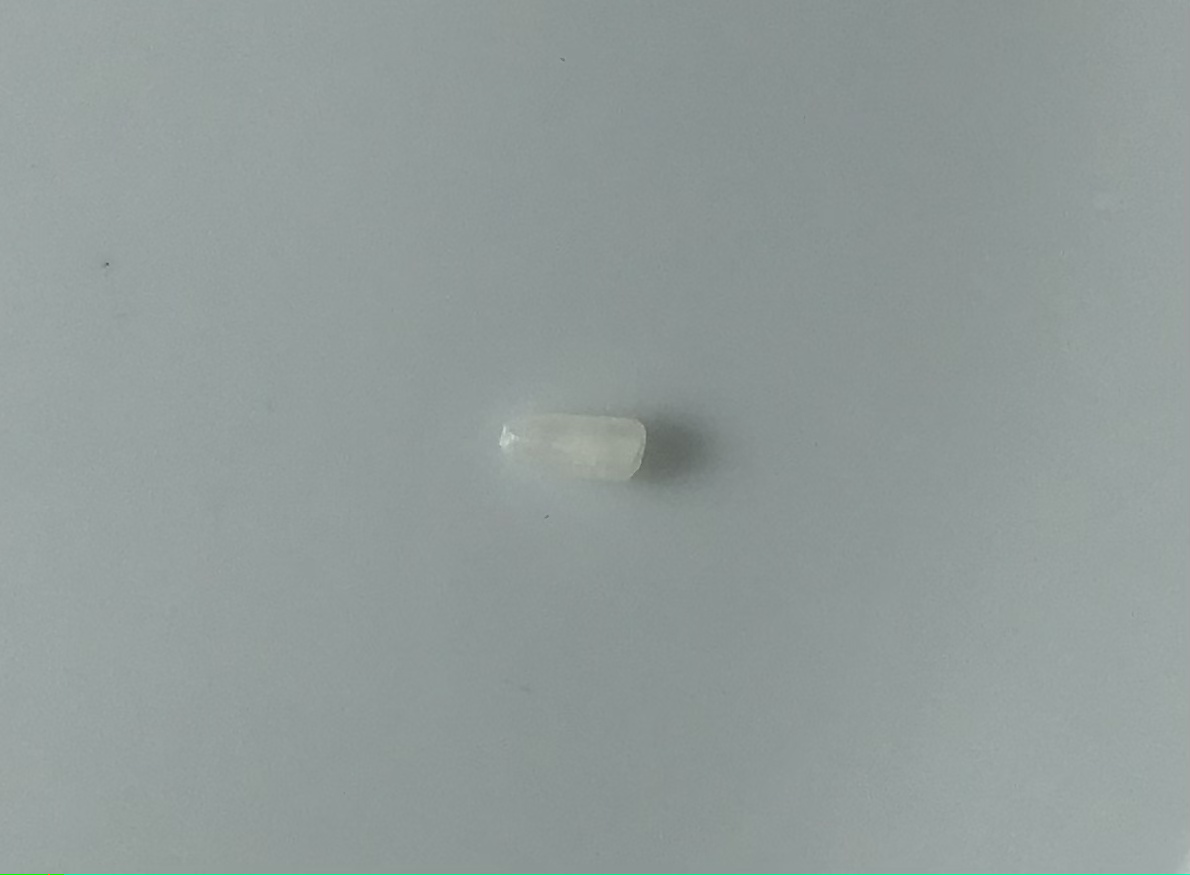Gao Tam: (496, 402, 653, 490)
